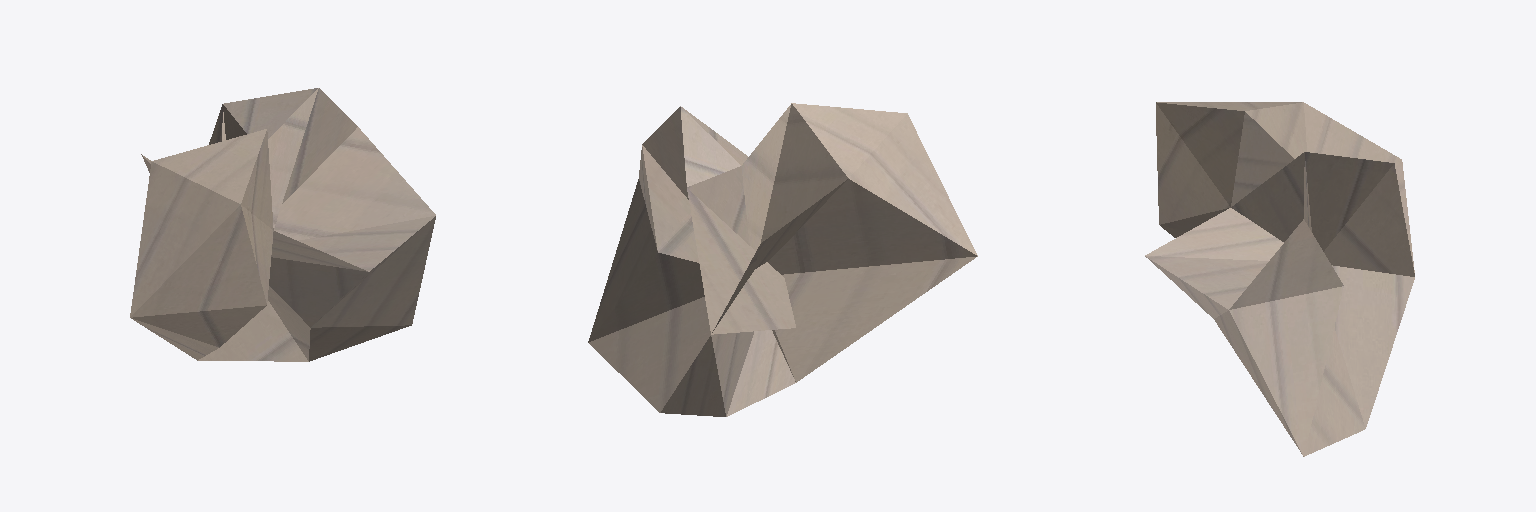
The picture shows the model from 3 angles: view 1: azimuth 30°, elevation 25°; view 2: azimuth 150°, elevation 25°; view 3: azimuth 270°, elevation 25°; orthographic projection.
Visible parts, largest first — view 1: crumple; view 2: crumple; view 3: crumple.
Part boxes in pixels (x1,y1,x2,y2): crumple: (130,88,435,361); crumple: (588,103,977,416); crumple: (1145,102,1414,456).
Size of the model in its own units: 2.1 by 1.69 by 1.47.
Materials: 1 (1 with a texture image).